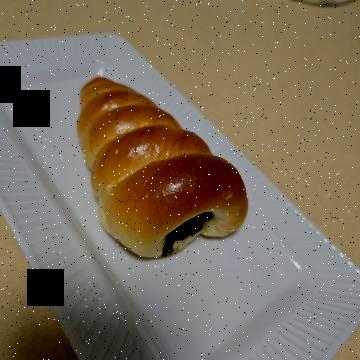cream horn: (54, 105, 268, 295)
